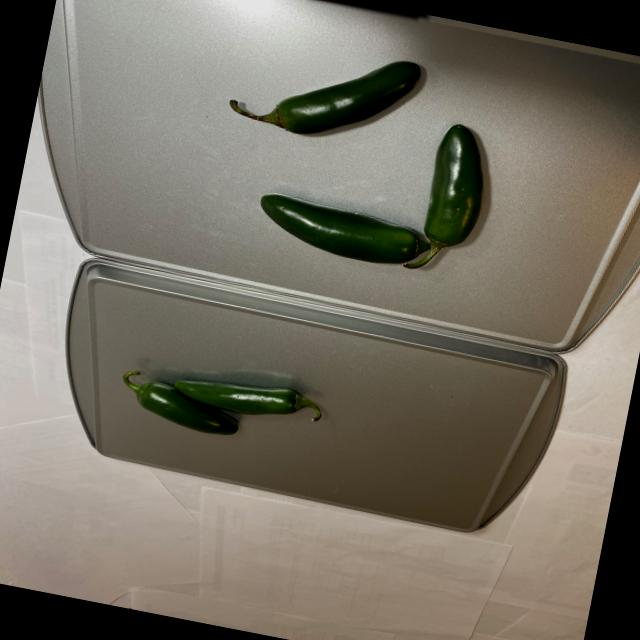chilli: (192, 22, 540, 292), (107, 344, 341, 459)
